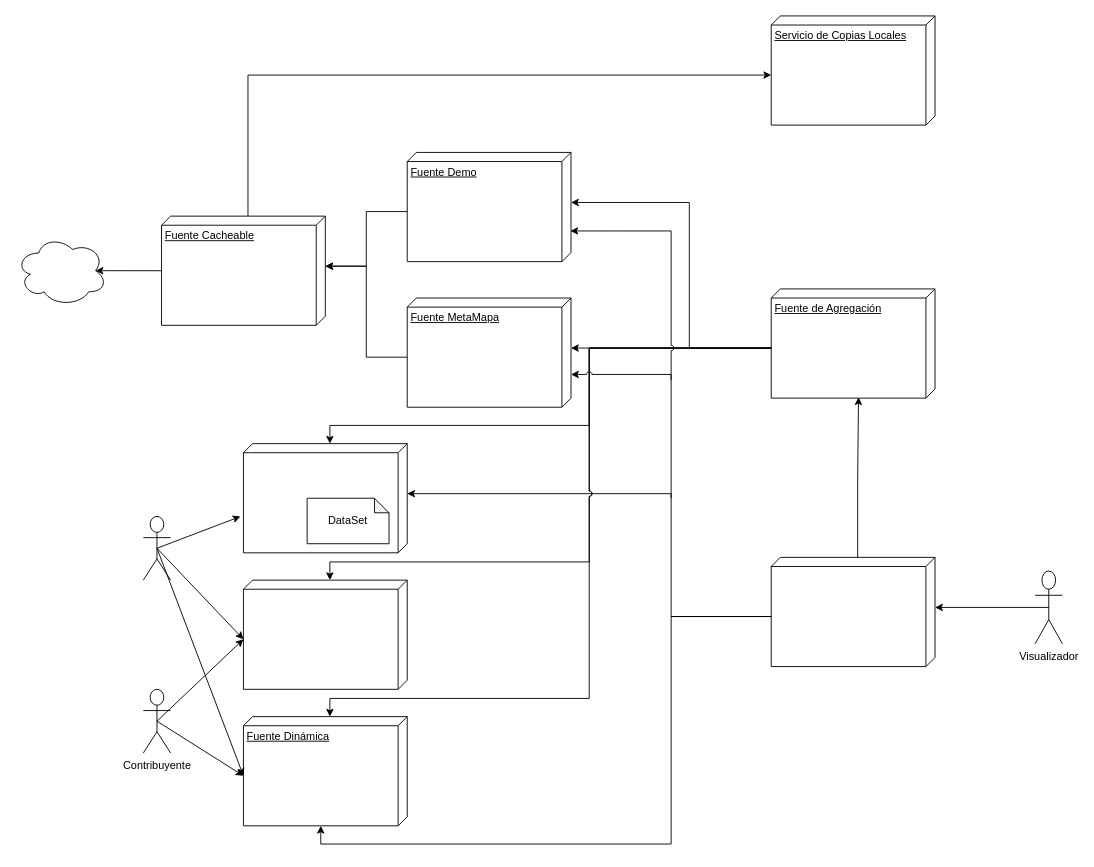
This 1094x867 diagram has some shape labels left out. Each missing label, with the box of its shape:
Administrador: (142, 516, 171, 580)
Fuente Estática: (243, 443, 407, 553)
Internet: (15, 235, 107, 306)
Repositorio de Solicitudes: (243, 579, 407, 689)
Servicio de Visualización: (770, 556, 935, 667)
